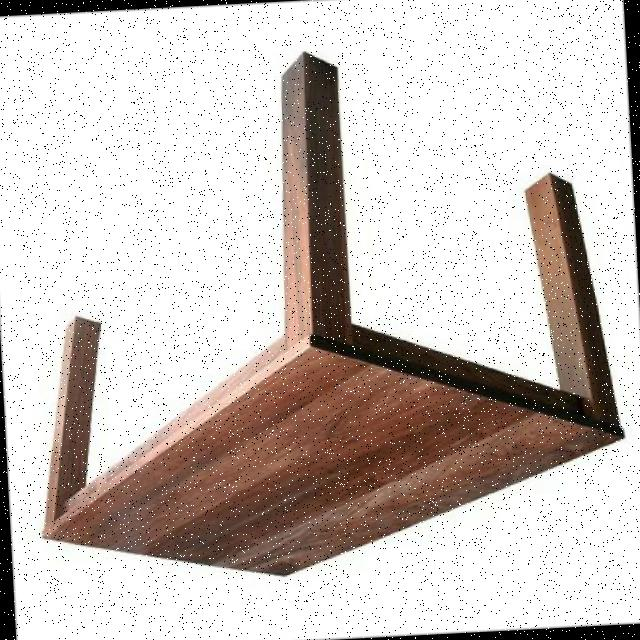Table: (0, 6, 640, 618)
